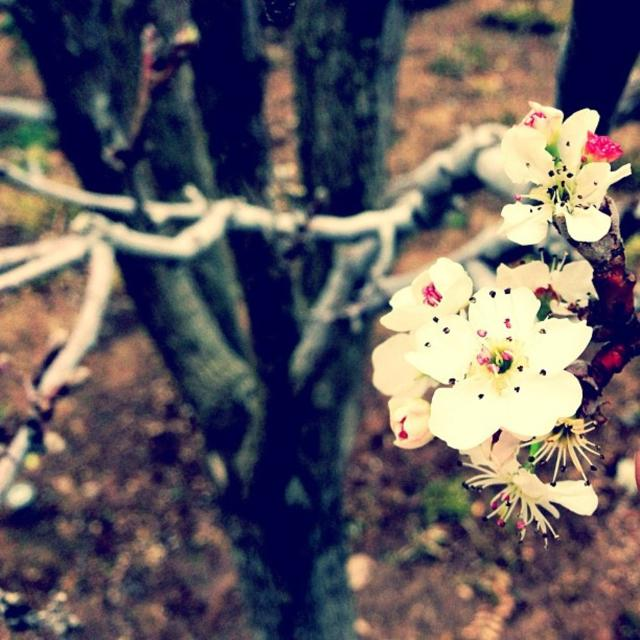Flower: (372, 254, 610, 548), (504, 95, 620, 242)
